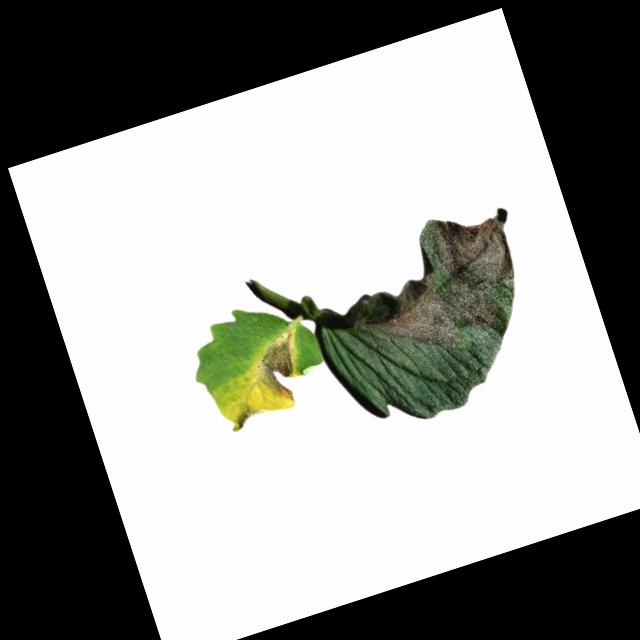Late_blight: (331, 195, 543, 374), (249, 333, 310, 408), (231, 403, 264, 434)
